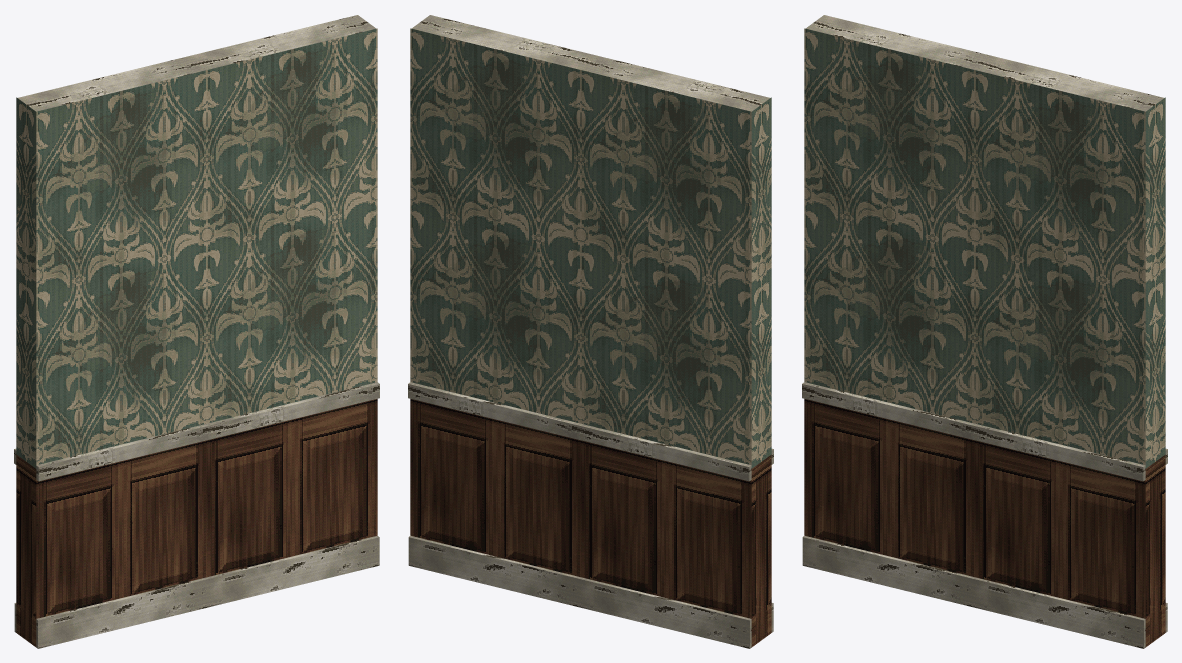
The model's file is house_wall.glb.
3 renders of one model, left to right at view 1: azimuth 30°, elevation 25°; view 2: azimuth 150°, elevation 25°; view 3: azimuth 330°, elevation 25°, orthographic.
Visible parts, largest first — view 1: house_wall; view 2: house_wall; view 3: house_wall.
Part boxes in pixels (x1,y1,x2,y2): house_wall: (14, 15, 379, 648); house_wall: (408, 15, 773, 648); house_wall: (802, 15, 1167, 648).
Size of the model in its own units: 2 by 3 by 0.25.
Materials: 3 (3 with a texture image).
